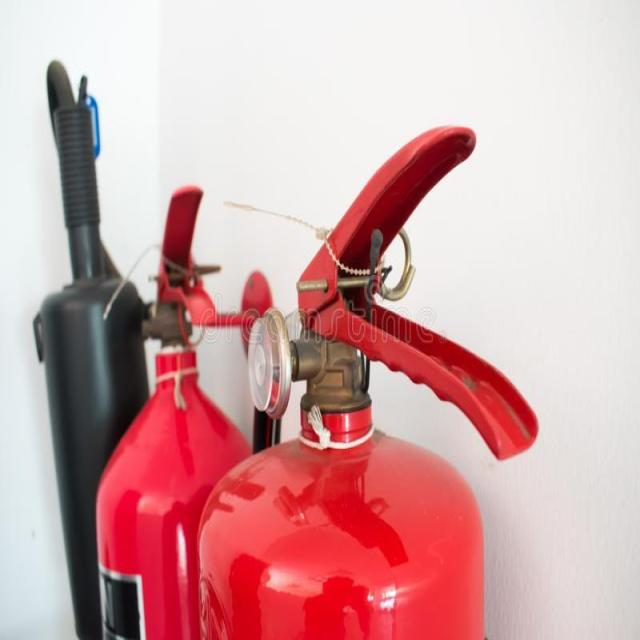fire_extinguisher: (194, 116, 540, 639), (28, 49, 270, 639)
